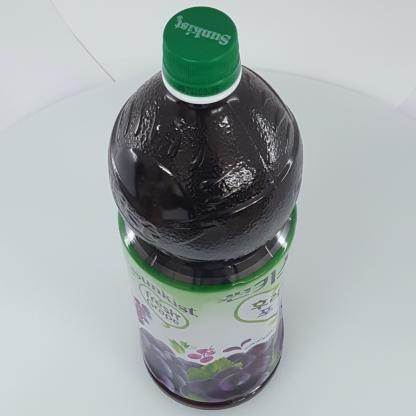-------50_1-5L: (108, 7, 303, 410)
